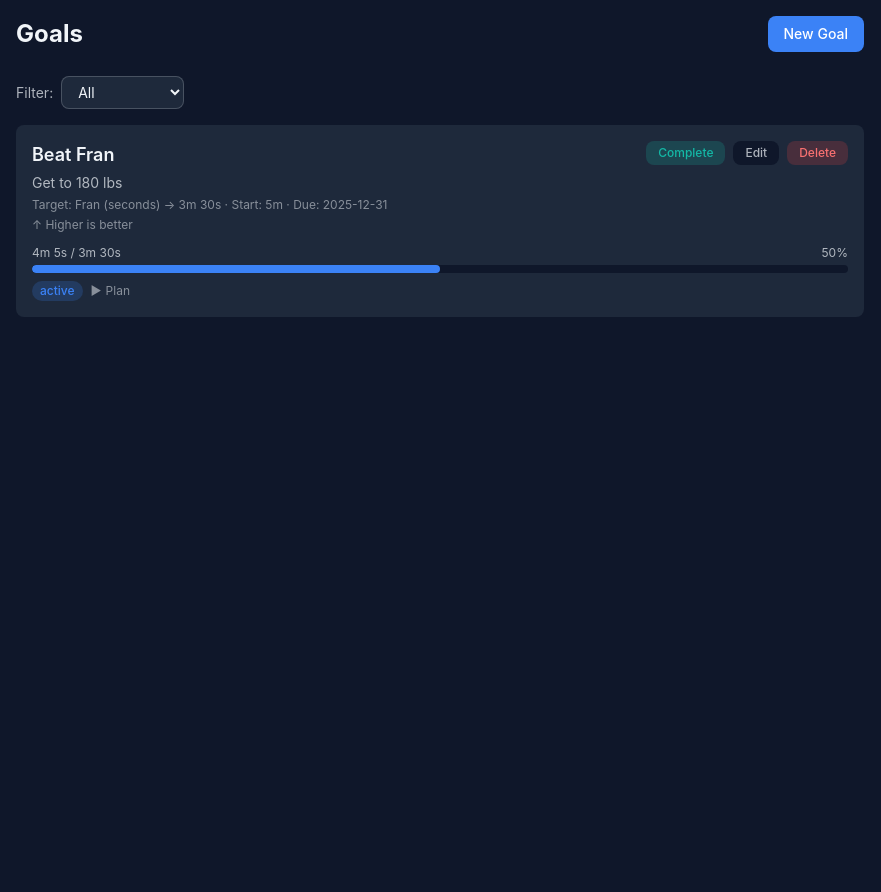
Test: Goals › populates time fields when editing a time-based goal
Expected: the heading "Beat Fran" is shown, [32,144,114,165]
Click the button "Edit" at coordinates (756, 153), box [733,141,779,165]
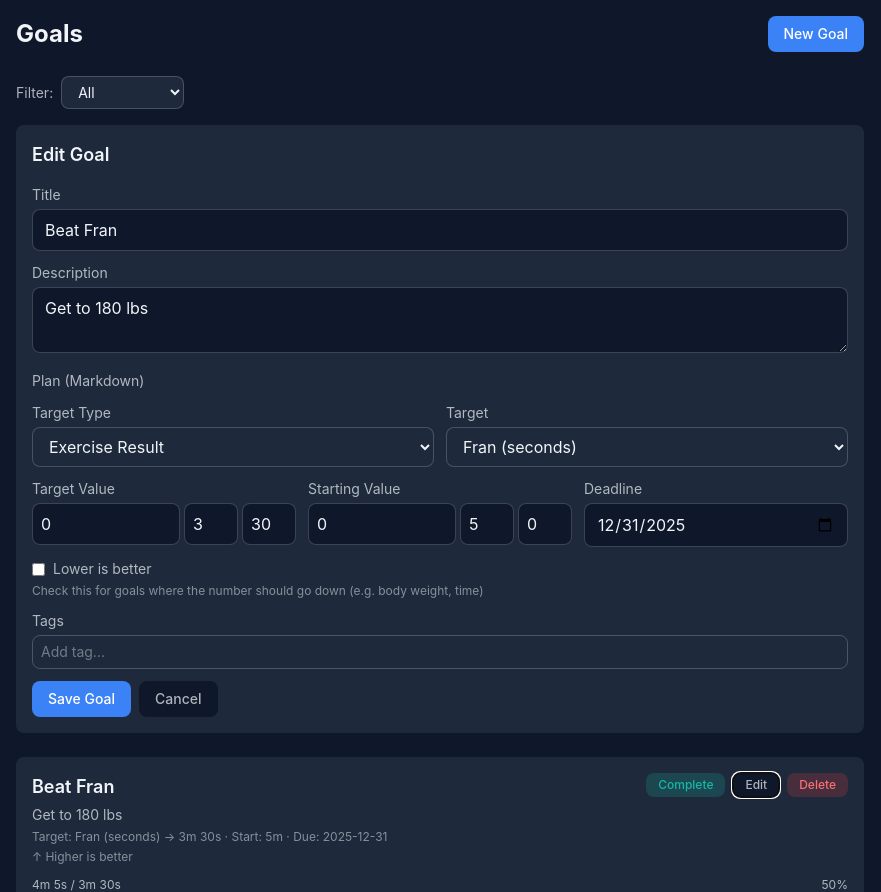
Expected: the 1st number field named "target hours" holds "0", [32,503,180,545]
Expected: the 2nd number field named "target minutes" holds "3", [184,503,238,545]
Expected: the 3rd number field named "target seconds" holds "30", [242,503,296,545]
